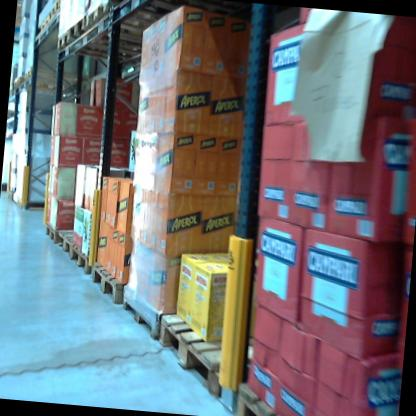pallet: (152, 305, 267, 409), (82, 0, 212, 56), (67, 15, 186, 58), (52, 24, 159, 70), (105, 0, 223, 32), (118, 279, 171, 346), (233, 380, 309, 416), (89, 259, 132, 307), (22, 64, 86, 91), (11, 75, 84, 96), (69, 240, 96, 274), (55, 228, 80, 258), (15, 195, 54, 214), (43, 222, 61, 245), (37, 12, 53, 36), (50, 0, 62, 19)
